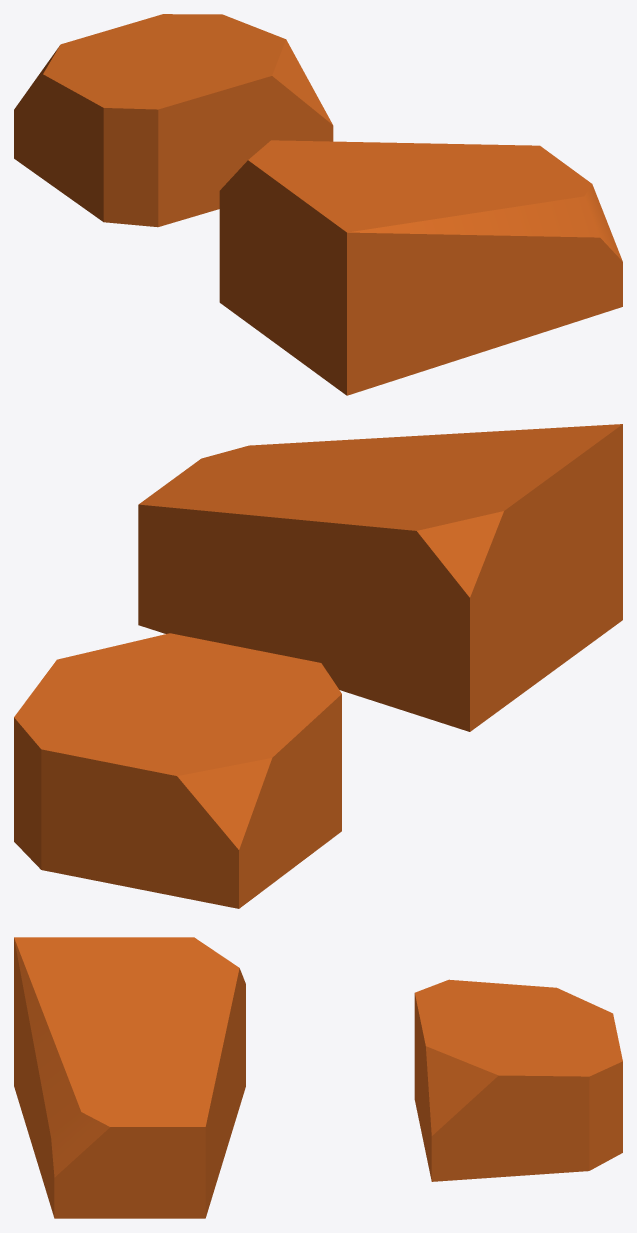
Rendered from OBJ_SmallRock_05.FBX.
3 views of the same model, one above another, from view 1: azimuth 30°, elevation 25°; view 2: azimuth 150°, elevation 25°; view 3: azimuth 270°, elevation 25° (orthographic). The views are drawn at different scales.
Visible parts, largest first — view 1: OBJ_SmallRock_05; view 2: OBJ_SmallRock_05; view 3: OBJ_SmallRock_05.
Boxes of the visible parts, x1,y1,x2,y2 form: OBJ_SmallRock_05: (14,14,622,395); OBJ_SmallRock_05: (14,424,622,908); OBJ_SmallRock_05: (14,937,622,1218).
Size of the model in its own units: 1.86 by 0.9496 by 3.52.
